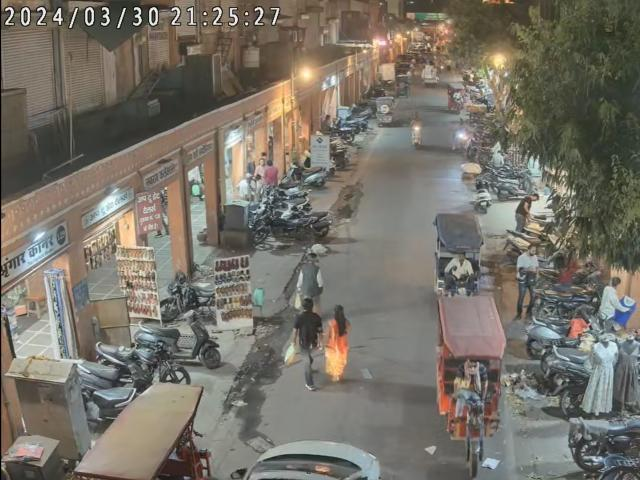auto: (437, 294, 505, 474), (433, 214, 483, 296)
motorbike: (568, 408, 640, 480), (94, 336, 190, 384), (258, 216, 318, 249), (158, 275, 214, 310)
person: (289, 296, 323, 394), (327, 303, 350, 392), (515, 243, 538, 319), (298, 253, 326, 302), (600, 275, 623, 324), (514, 193, 540, 234)
scooty: (134, 304, 222, 370), (78, 350, 143, 403)
